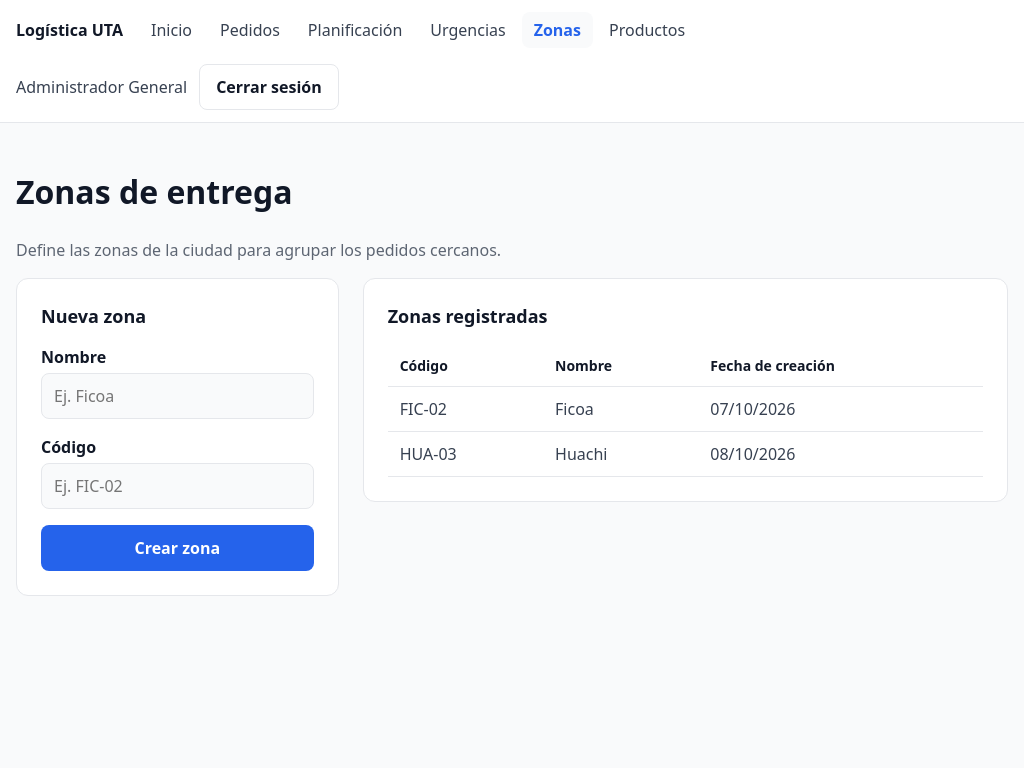
it: ZonesPage › crea una zona, muestra confirmación, limpia el formulario y actualiza la lista
This screenshot has width=1024, height=768.
Type " Centro " into the field labelled "Nombre" at point(177, 396), box [41,373,314,419]
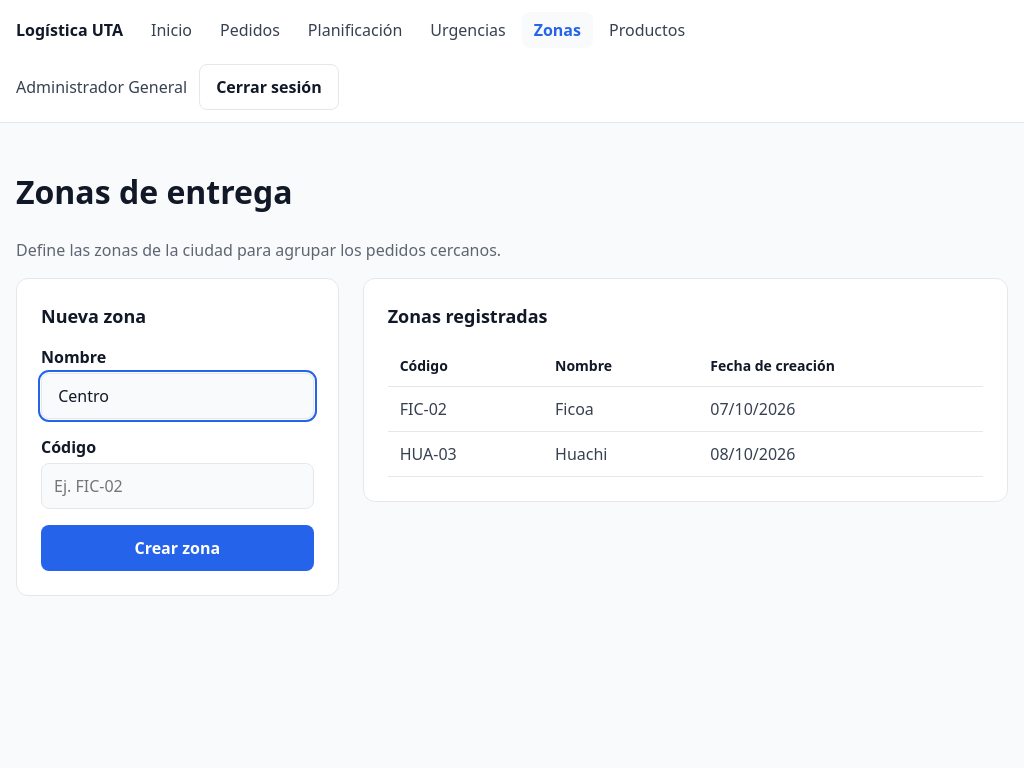
Type "CEN-01" into the field labelled "Código" at point(177, 486), box [41,463,314,509]
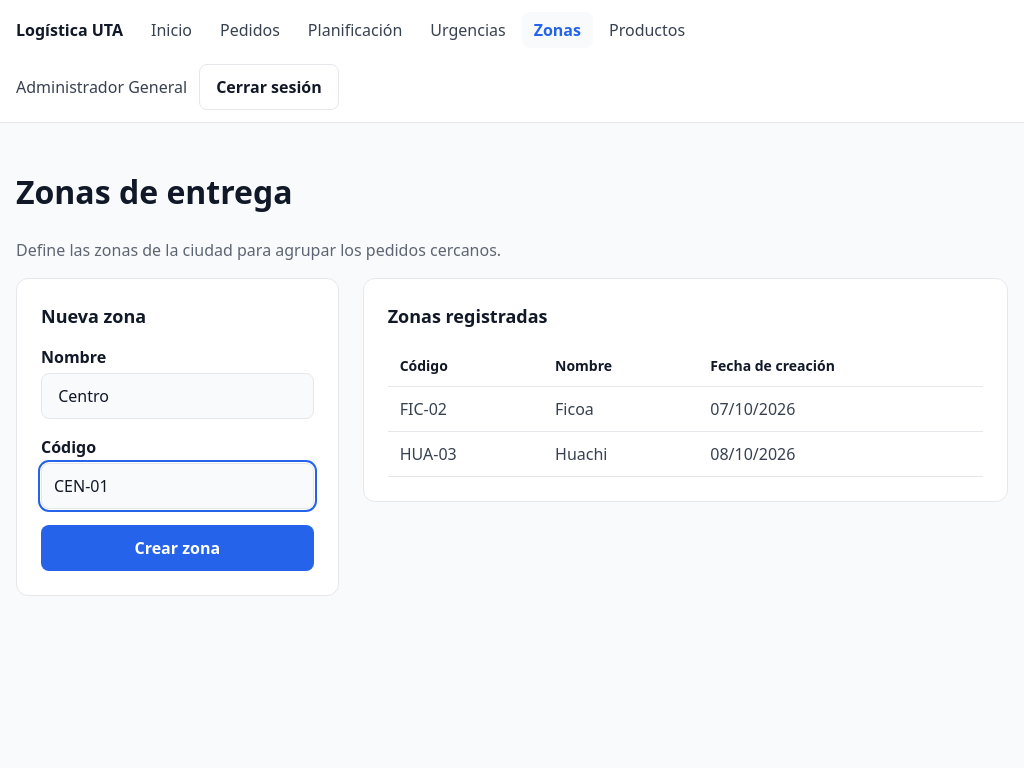
Click the button "Crear zona" at point(177, 548), box [41,525,314,571]
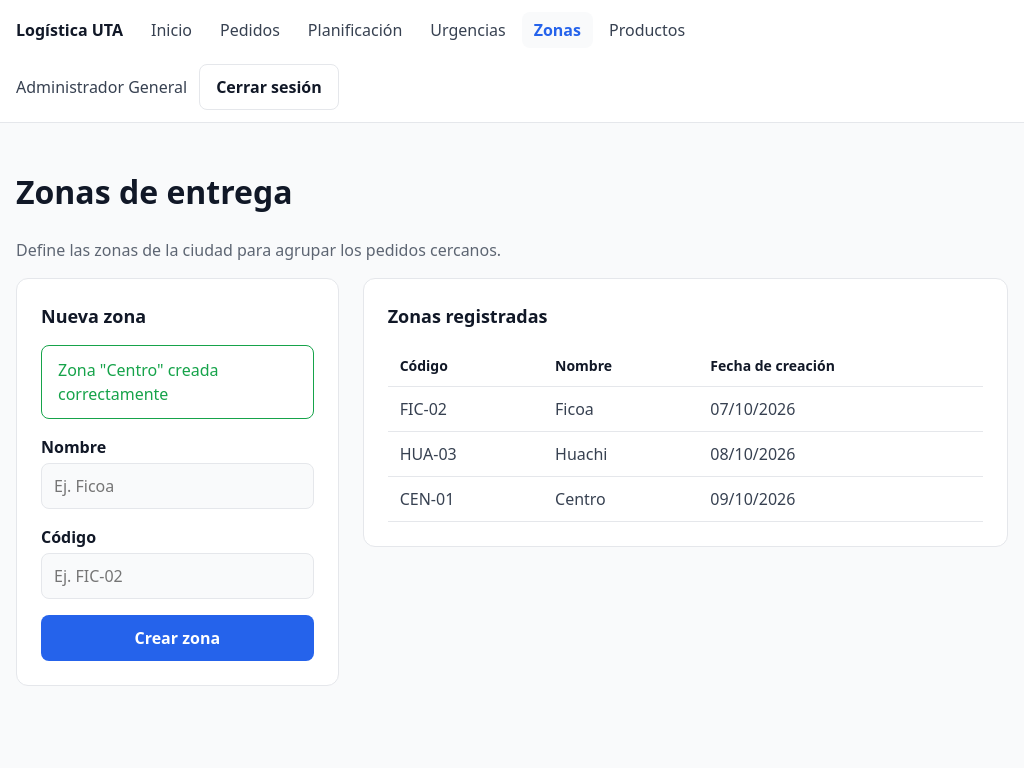
Result: the message reads "Zona \"Centro\" creada correctamente" at [58,359,218,405]
Result: the text "CEN-01" is shown at [388,476,543,521]
Result: the field labelled "Nombre" is empty at [41,463,314,509]
